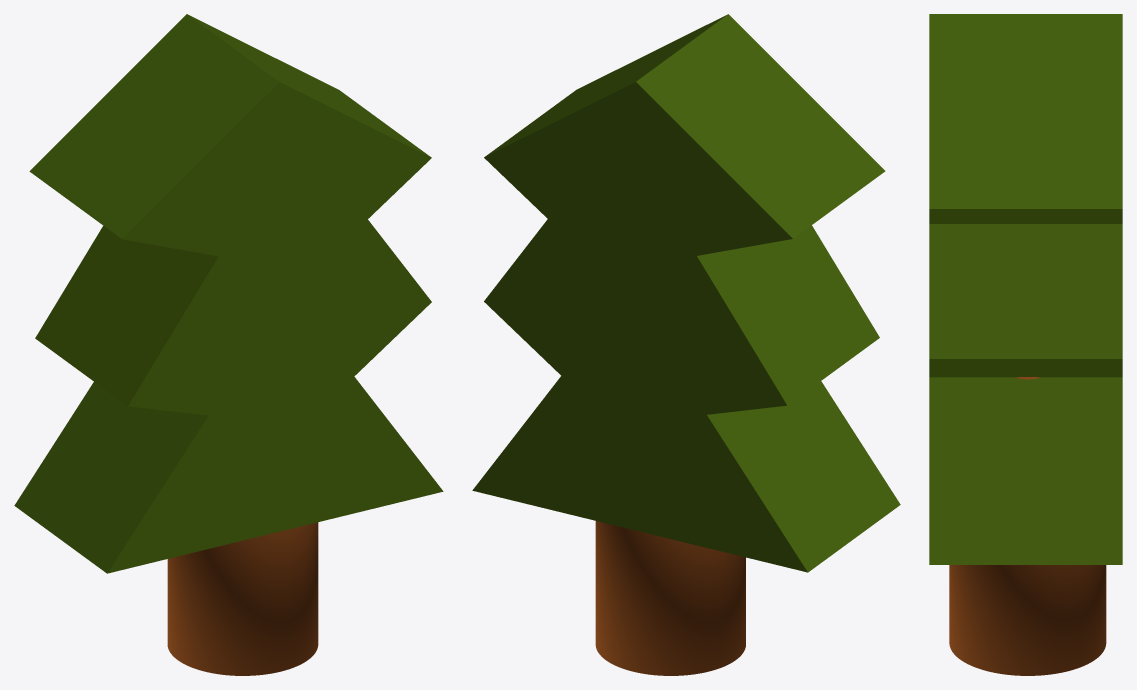
The model's file is tree.dae.
The picture shows the model from 3 angles, left to right: view 1: azimuth 30°, elevation 25°; view 2: azimuth 150°, elevation 25°; view 3: azimuth 270°, elevation 25°; orthographic projection. The views are drawn at different scales.
Visible parts, largest first — view 1: group_2, group_1; view 2: group_2, group_1; view 3: group_2, group_1.
Boxes of the visible parts, x1,y1,x2,y2 form: group_2: (14, 14, 443, 573); group_1: (167, 522, 318, 675); group_2: (472, 14, 900, 572); group_1: (595, 521, 745, 675); group_2: (929, 14, 1122, 564); group_1: (949, 377, 1106, 675).
Size of the model in its own units: 107 by 51.18 by 182.
